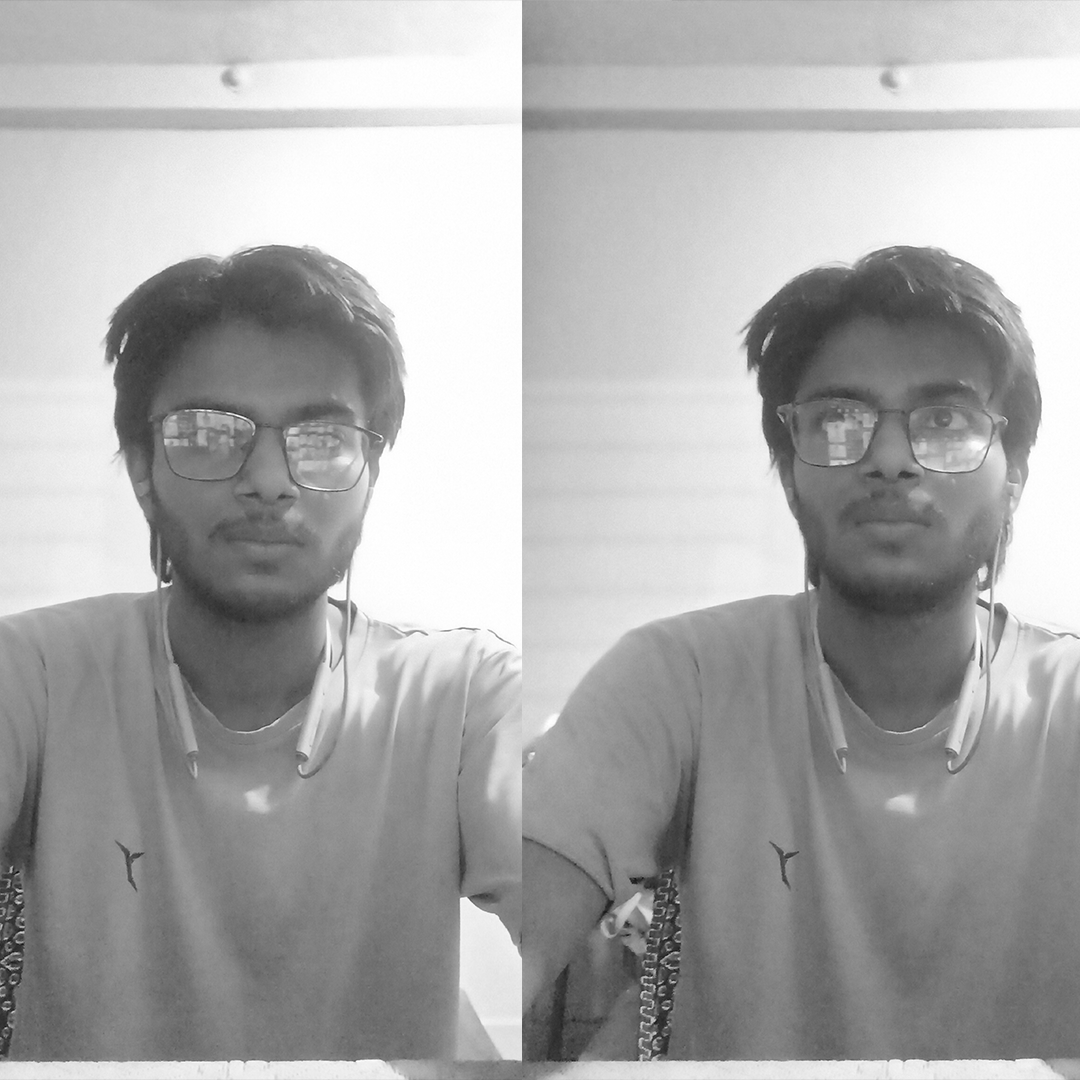Focused: (47, 212, 471, 672), (721, 263, 1055, 703)
